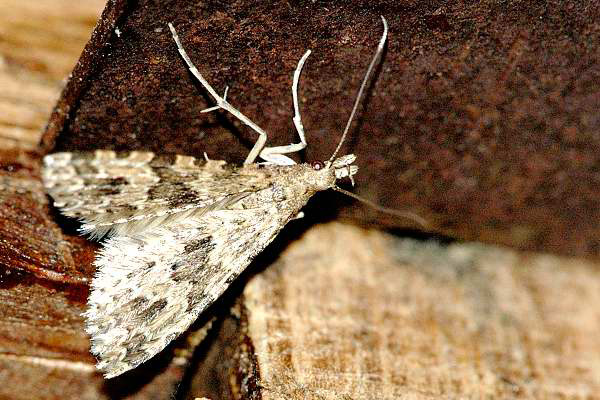Alucitidae: (31, 7, 436, 378)
moth: (33, 9, 438, 380)
